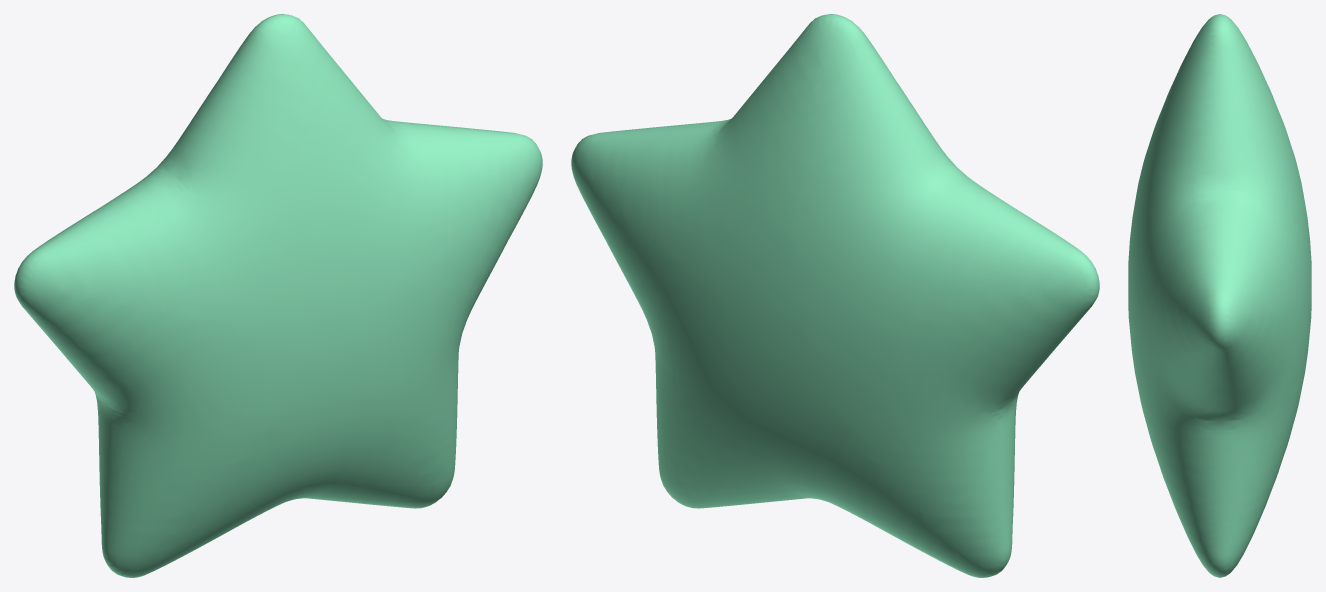
The picture shows the model from 3 angles, left to right: view 1: azimuth 30°, elevation 25°; view 2: azimuth 150°, elevation 25°; view 3: azimuth 270°, elevation 25°; orthographic projection. The views are drawn at different scales.
Visible parts, largest first — view 1: Star 2; view 2: Star 2; view 3: Star 2.
Boxes of the visible parts, left/top/right/bottom form: Star 2: left=14, top=14, right=542, bottom=577; Star 2: left=571, top=14, right=1099, bottom=577; Star 2: left=1128, top=14, right=1311, bottom=577.
Bounding box in the file's own units: 25.13 × 24.05 × 8.12.
